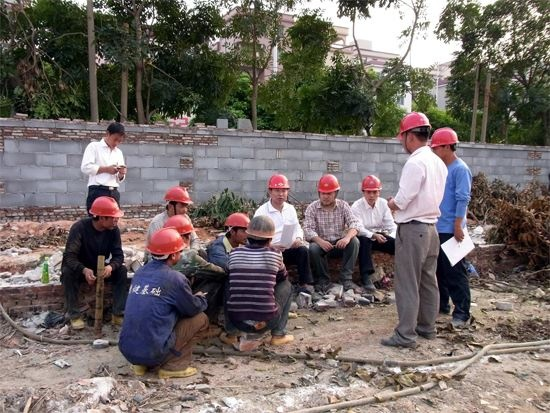none: (104, 120, 126, 151)
red: (396, 110, 431, 154), (148, 227, 184, 267), (88, 194, 122, 232), (428, 125, 459, 162), (159, 212, 191, 246), (162, 183, 192, 217), (314, 172, 342, 206), (222, 209, 249, 244), (266, 173, 290, 206), (359, 173, 382, 204)
yellow: (243, 212, 275, 247)
